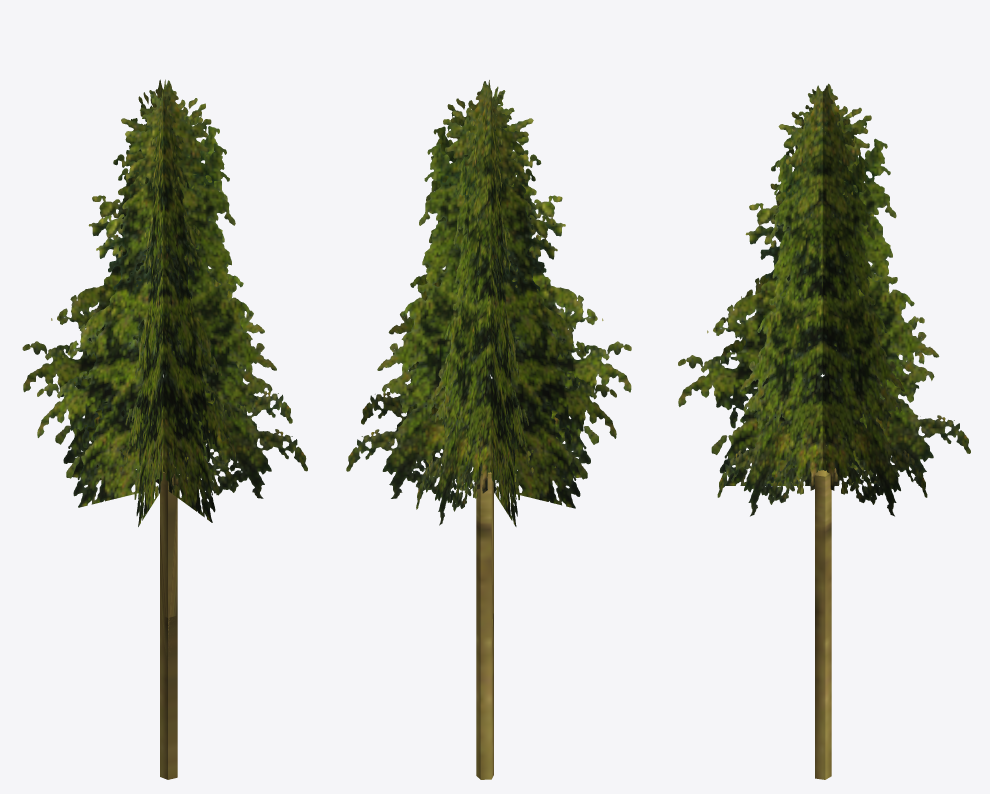
The model's file is Tree3Tall.fbx.
3 views of the same model, side by side, from view 1: azimuth 30°, elevation 25°; view 2: azimuth 150°, elevation 25°; view 3: azimuth 270°, elevation 25° (orthographic).
Parts seen in each view (by area): view 1: Tree3Tall; view 2: Tree3Tall; view 3: Tree3Tall.
Part boxes in pixels (x1,y1,x2,y2): Tree3Tall: (22,79,307,779); Tree3Tall: (346,80,631,779); Tree3Tall: (678,83,970,779).
Bounding box in the file's own units: 1679 × 4193 × 1679.
